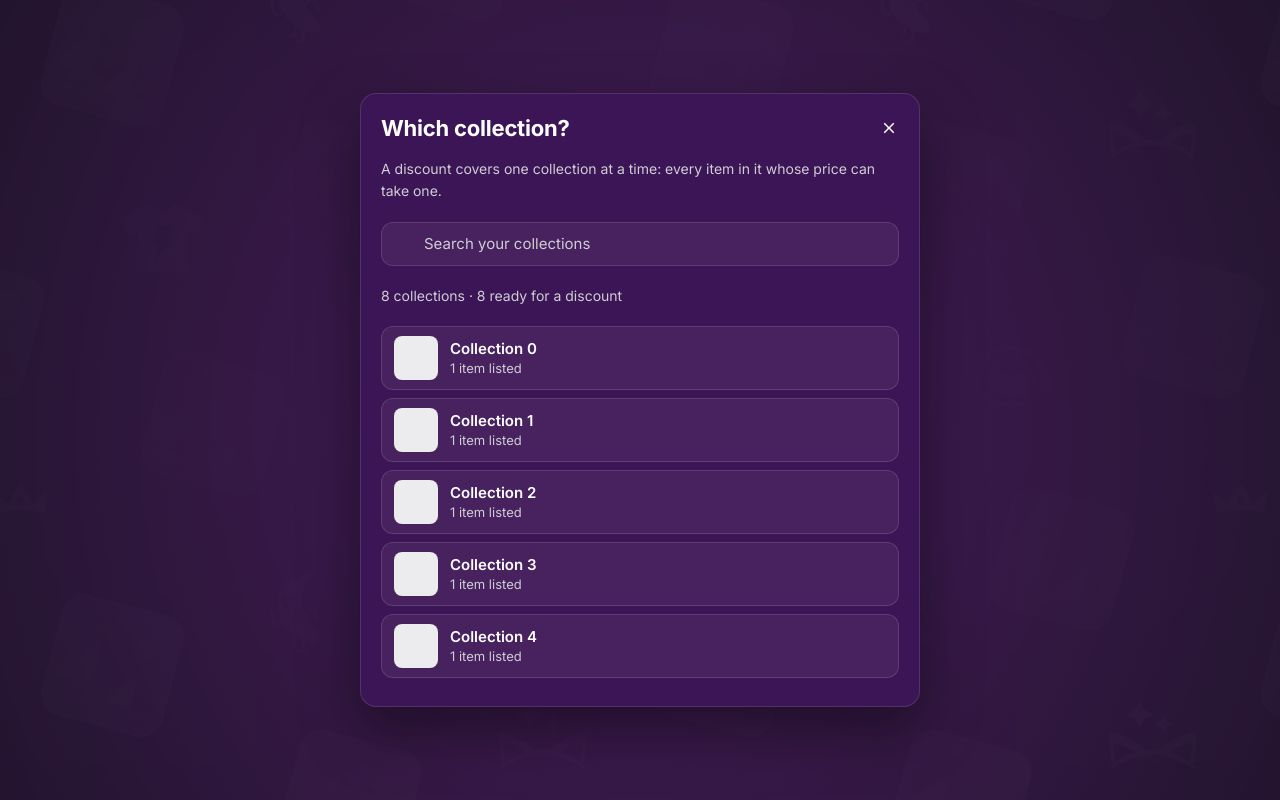
Test case: when the creator searches a long list of collections › should clear the search from its own button once something is typed
The width and height of the screenshot is (1280, 800).
Type "Collection 3" into the search field with test id "creator-sale-pick-search" at (653, 244), box x1=422 y1=233 x2=884 y2=254
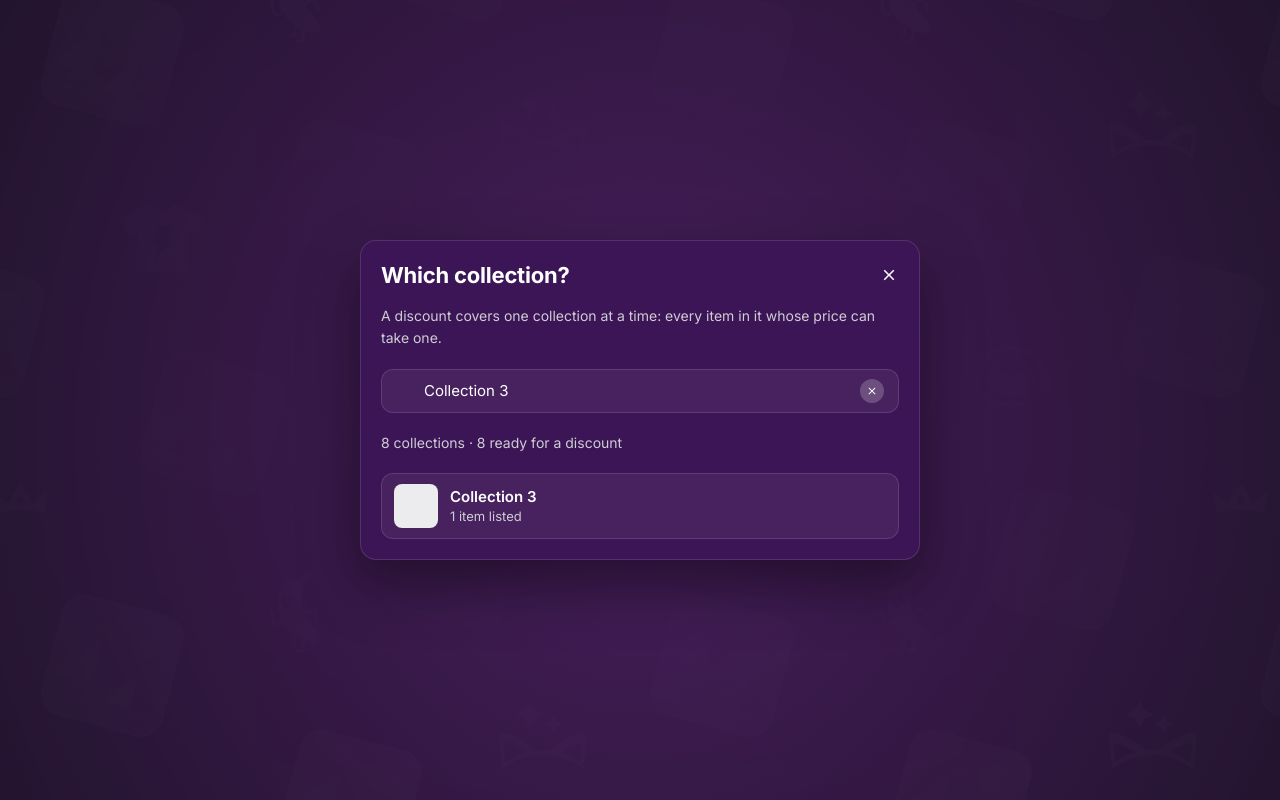
Click the button named "Clear search" at (872, 390), box x1=860 y1=378 x2=884 y2=402
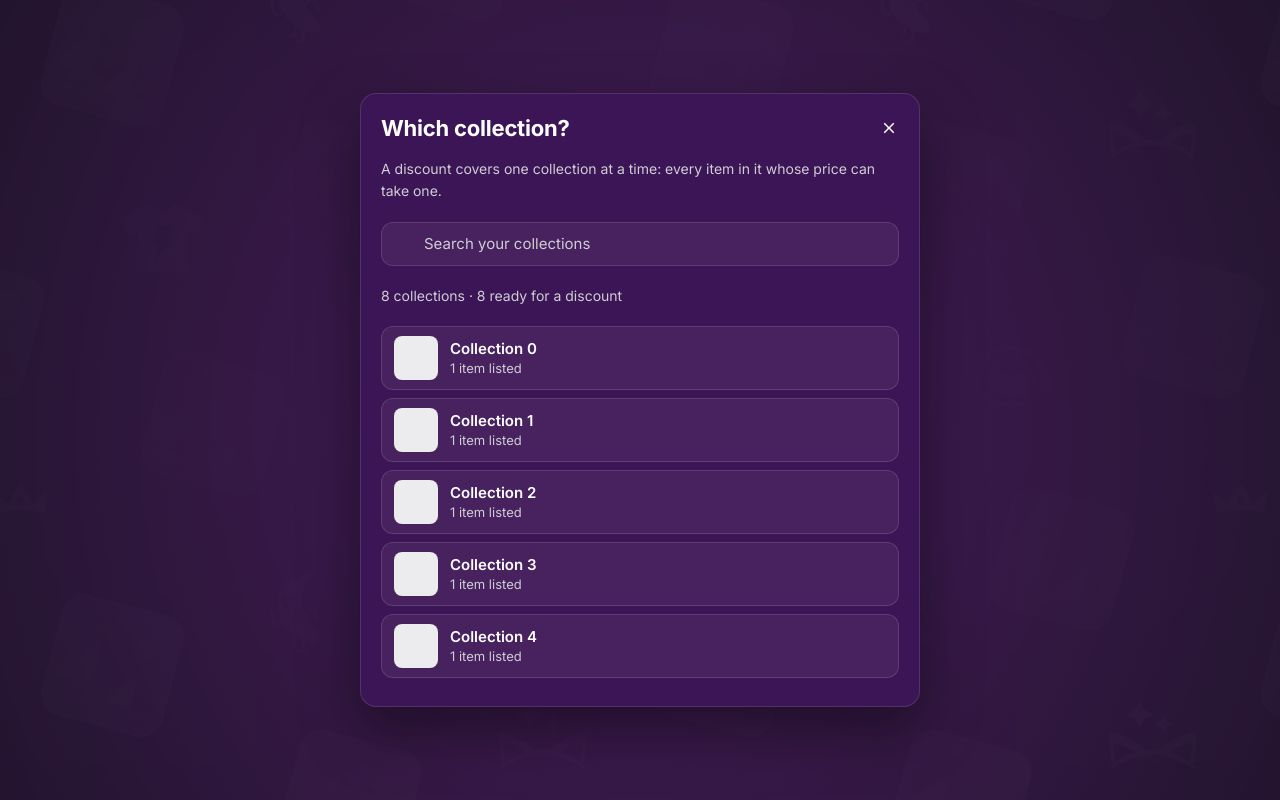
Expected: the search field with test id "creator-sale-pick-search" is empty, x1=422 y1=233 x2=884 y2=254
Expected: the button with test id "creator-sale-pick-search-clear" is gone
